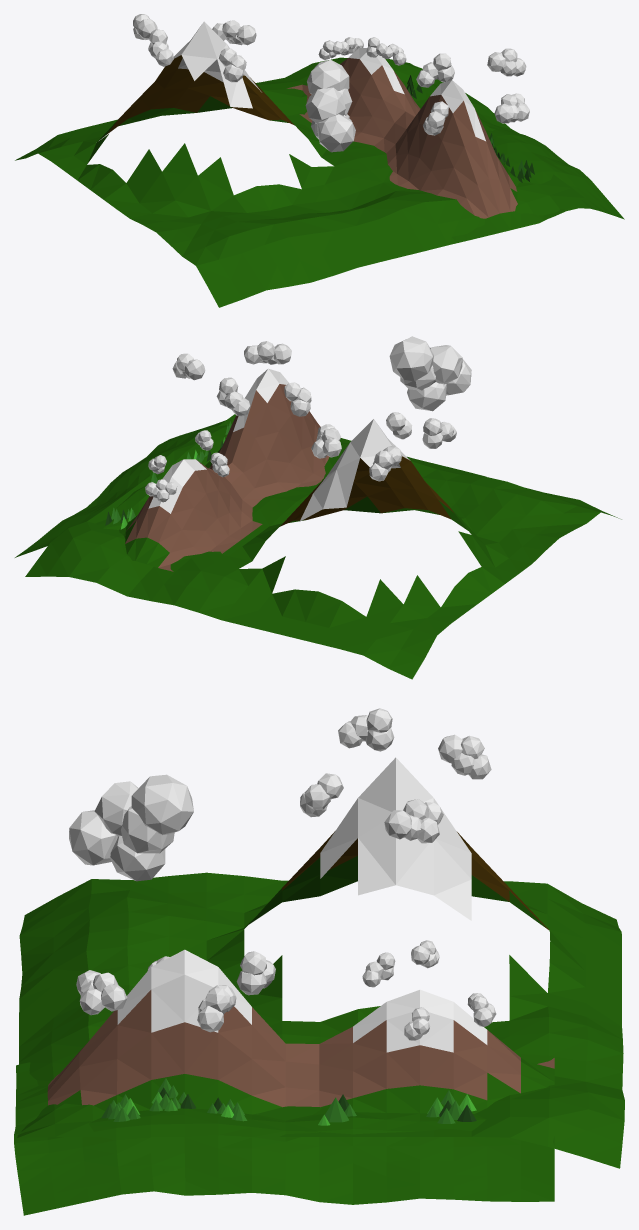
The picture shows the model from 3 angles, top to bottom: view 1: azimuth 30°, elevation 25°; view 2: azimuth 150°, elevation 25°; view 3: azimuth 270°, elevation 25°; orthographic projection. The views are drawn at different scales.
Visible parts, largest first — view 1: Plane.001, Plane, cloud1.003, cloud4.001, cloud1.001, cloud3.001, cloud1, cloud2, cloud4, cloud2.001, cloud3; view 2: Plane.001, Plane, cloud1.003, cloud1.001, cloud4.001, cloud1, cloud4, cloud3, cloud2.001, cloud3.001, cloud2, cloud1.002; view 3: Plane, Plane.001, cloud1.003, cloud1, cloud4, cloud1.001, cloud3, cloud3.001, cloud4.001, cloud2, cloud4.002.
Boxes of the visible parts, left/top/right/bottom form: Plane.001: left=15, top=21, right=584, bottom=307; Plane: left=287, top=48, right=624, bottom=242; cloud1.003: left=305, top=59, right=355, bottom=152; cloud4.001: left=416, top=53, right=454, bottom=87; cloud1.001: left=494, top=93, right=529, bottom=123; cloud3.001: left=487, top=48, right=526, bottom=76; cloud1: left=212, top=20, right=256, bottom=45; cloud2: left=218, top=48, right=246, bottom=82; cloud4: left=148, top=29, right=173, bottom=66; cloud2.001: left=423, top=101, right=448, bottom=135; cloud3: left=133, top=14, right=157, bottom=39; Plane.001: left=25, top=414, right=621, bottom=679; Plane: left=15, top=368, right=351, bottom=571; cloud1.003: left=389, top=336, right=471, bottom=411; cloud1.001: left=244, top=341, right=291, bottom=364; cloud4.001: left=216, top=377, right=249, bottom=416; cloud1: left=311, top=424, right=341, bottom=458; cloud4: left=422, top=418, right=456, bottom=448; cloud3: left=369, top=446, right=402, bottom=481; cloud2.001: left=284, top=382, right=311, bottom=416; cloud3.001: left=172, top=353, right=205, bottom=380; cloud2: left=386, top=412, right=412, bottom=439; cloud1.002: left=145, top=479, right=177, bottom=502; Plane: left=14, top=949, right=554, bottom=1215; Plane.001: left=17, top=757, right=624, bottom=1168; cloud1.003: left=69, top=774, right=193, bottom=881; cloud1: left=384, top=799, right=443, bottom=843; cloud4: left=338, top=708, right=394, bottom=751; cloud1.001: left=76, top=970, right=127, bottom=1015; cloud3: left=438, top=734, right=491, bottom=779; cloud3.001: left=197, top=985, right=236, bottom=1032; cloud4.001: left=236, top=951, right=275, bottom=995; cloud2: left=300, top=773, right=343, bottom=817; cloud4.002: left=362, top=952, right=395, bottom=987.
Size of the model in its own units: 46.56 by 42.1 by 20.12.
